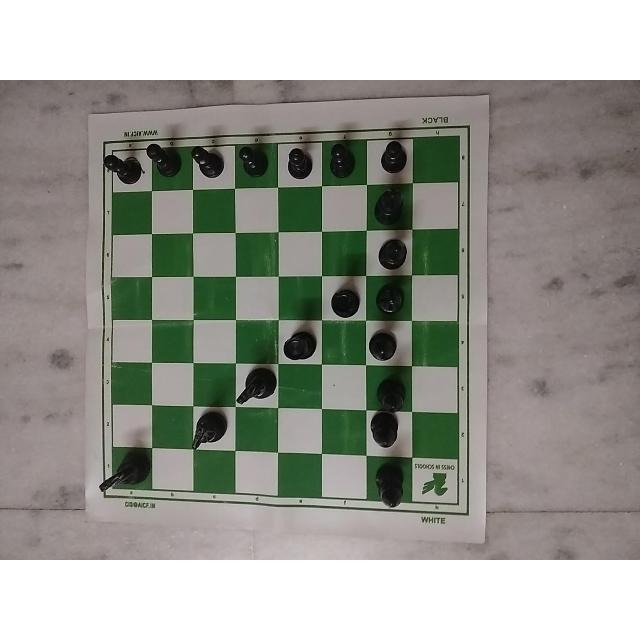black-bishop: (367, 280, 413, 328), (370, 464, 412, 515), (372, 184, 413, 234), (366, 412, 413, 450), (371, 373, 411, 417), (365, 328, 406, 368), (371, 238, 411, 278)
black-knight: (93, 451, 149, 499), (185, 411, 232, 455), (233, 366, 279, 410)
black-pawn: (189, 140, 226, 192), (281, 139, 319, 181), (324, 129, 356, 178), (101, 147, 139, 187), (235, 140, 274, 178), (141, 139, 177, 179), (376, 139, 412, 179)
black-rook: (321, 278, 364, 321), (276, 325, 322, 365)
